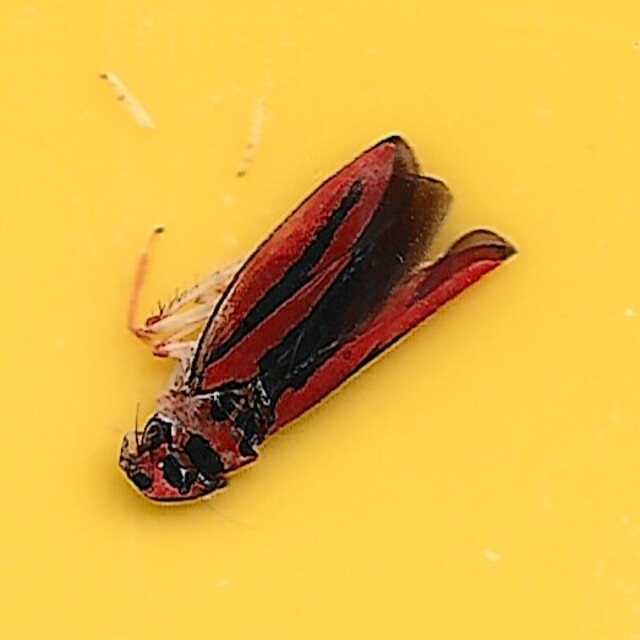Hemiptera: (122, 133, 518, 507)
